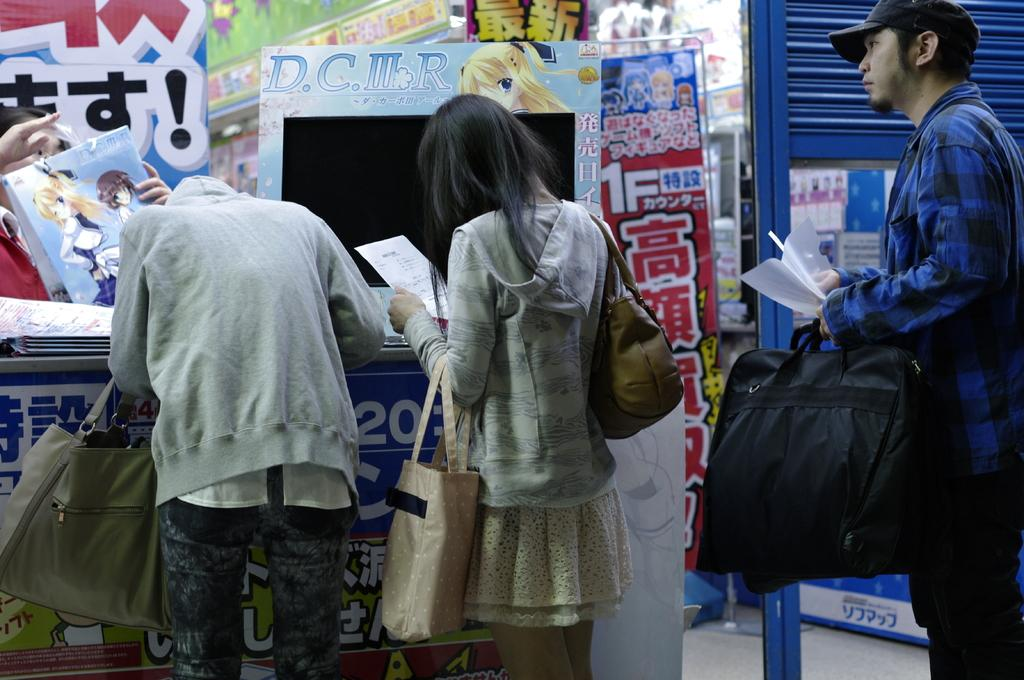Luggage-and-bags: (707, 315, 957, 571), (0, 377, 173, 635), (381, 355, 480, 647), (588, 207, 687, 445)
